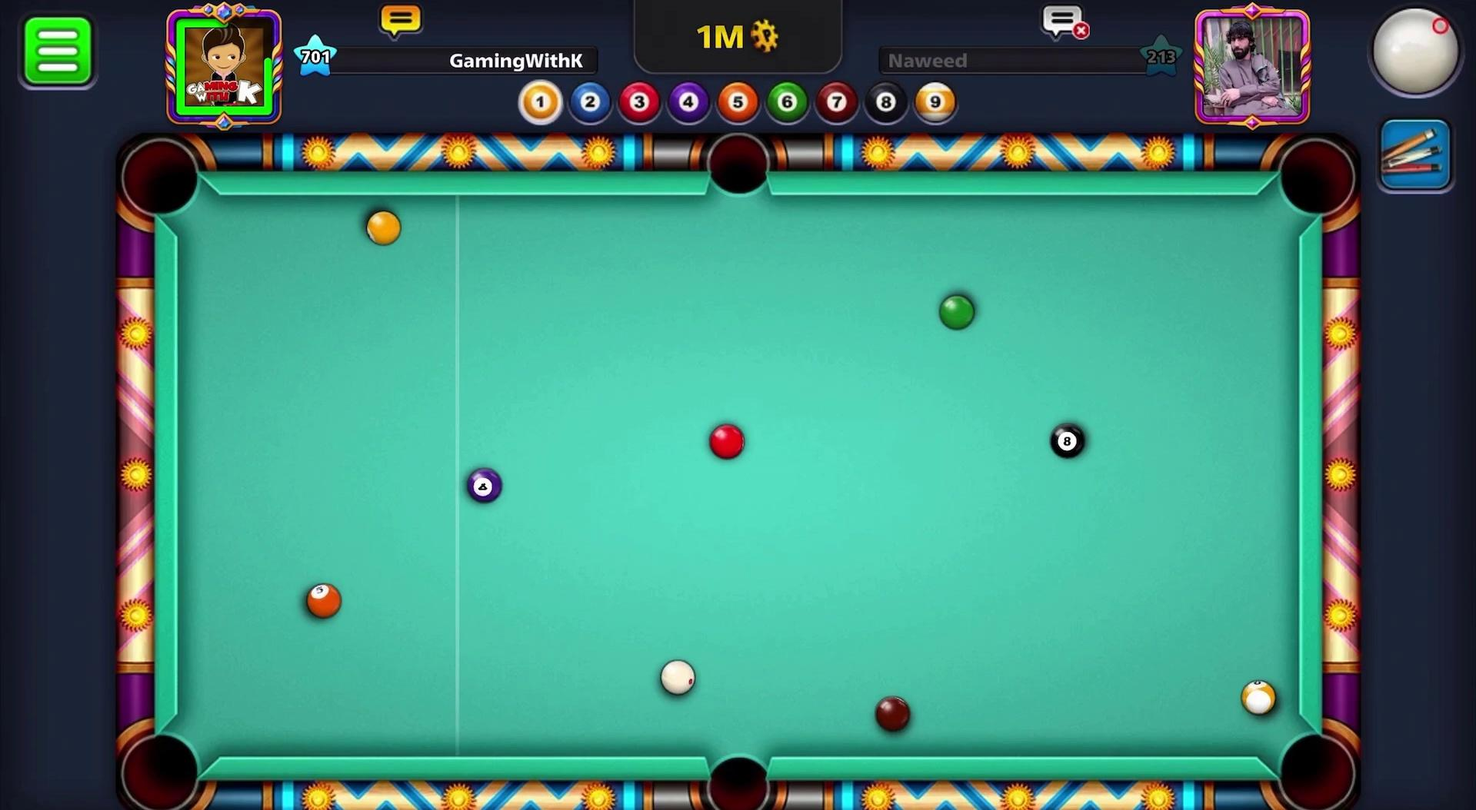Ball: (699, 419, 752, 469), (461, 462, 509, 512), (936, 287, 980, 338), (358, 207, 407, 252), (300, 576, 344, 626), (1045, 416, 1089, 462), (868, 693, 915, 733), (1236, 676, 1280, 717)
Hole: (110, 128, 213, 233), (1262, 712, 1364, 809), (111, 712, 211, 809), (1268, 133, 1365, 231), (683, 739, 788, 809), (697, 123, 782, 207)
Play_Area: (176, 193, 1298, 755)
Spin: (1346, 0, 1475, 115)
White: (651, 657, 701, 697)
